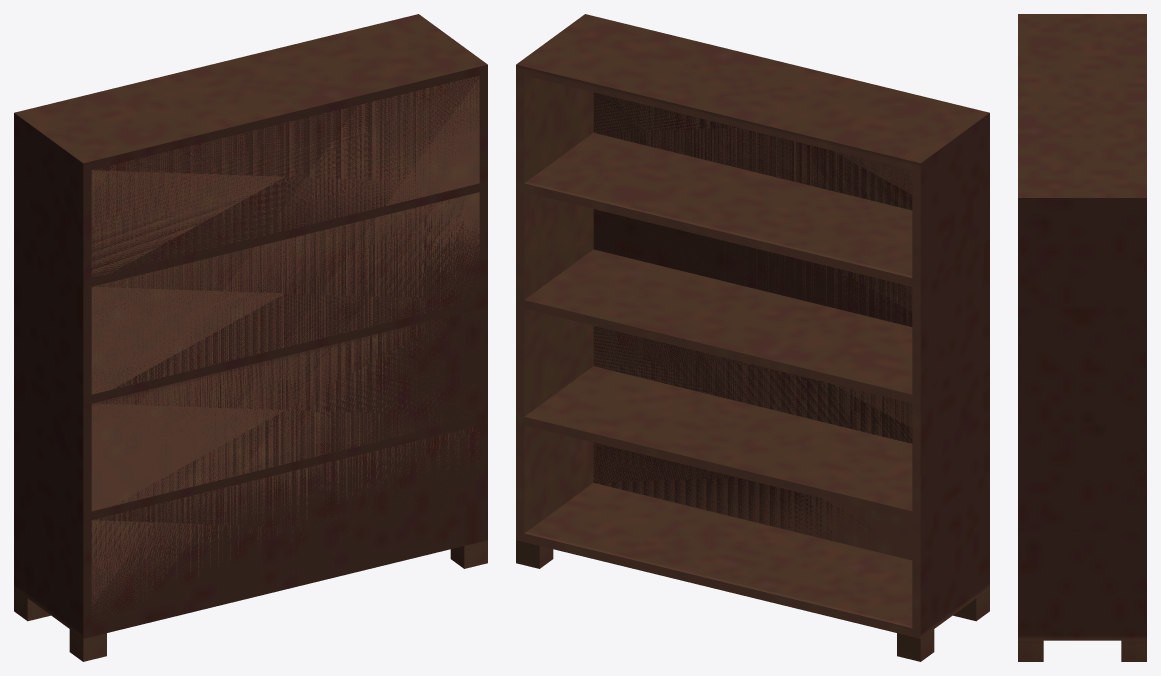
Rendered from shelving.fbx.
3 renders of one model, left to right at view 1: azimuth 30°, elevation 25°; view 2: azimuth 150°, elevation 25°; view 3: azimuth 270°, elevation 25°, orthographic. The views are drawn at different scales.
Visible parts, largest first — view 1: Shelving; view 2: Shelving; view 3: Shelving.
Boxes of the visible parts, bbox=[...] form: Shelving: bbox=[14, 14, 487, 661]; Shelving: bbox=[516, 14, 989, 661]; Shelving: bbox=[1018, 14, 1146, 661].
Bounding box in the file's own units: 2.53 × 0.75 × 2.98.
Materials: 1 (1 with a texture image).
